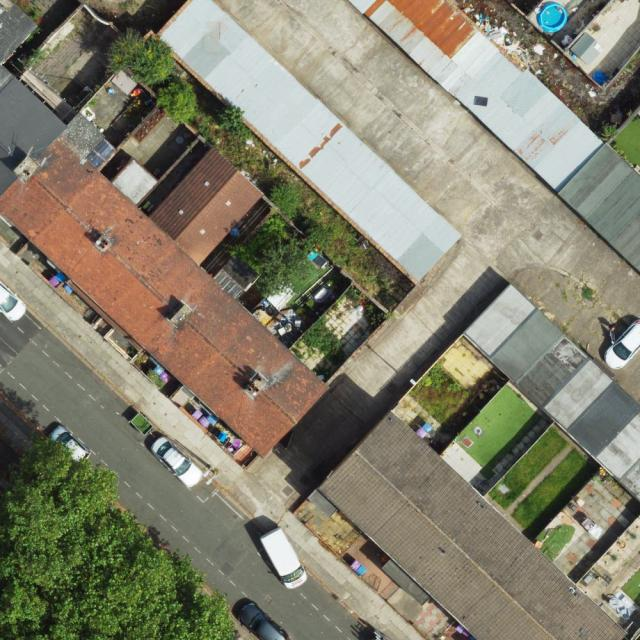roof: (0, 0, 327, 461), (152, 0, 463, 281), (349, 0, 640, 274), (307, 408, 630, 640), (463, 281, 640, 501)
